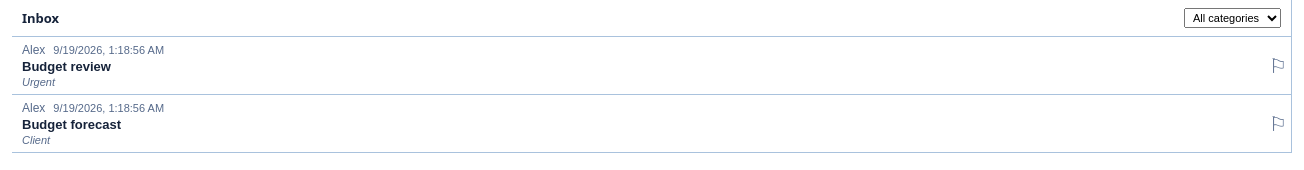
Scenario: MessageListPane › combines an active search with the category filter
Check: the text "Budget review" is shown, box top-left (22, 59), bottom-right (111, 74)
Check: the text "Budget forecast" is shown, box top-left (22, 117), bottom-right (121, 132)
Select "Urgent" in the dropdown named "Filter by category" at (1232,18), box top-left (1184, 8), bottom-right (1281, 28)
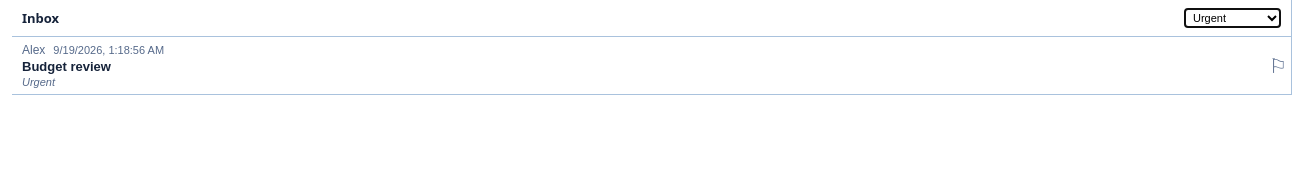
Check: the text "Budget review" is shown, box top-left (22, 59), bottom-right (111, 74)
Check: the button "Budget forecast" is gone
